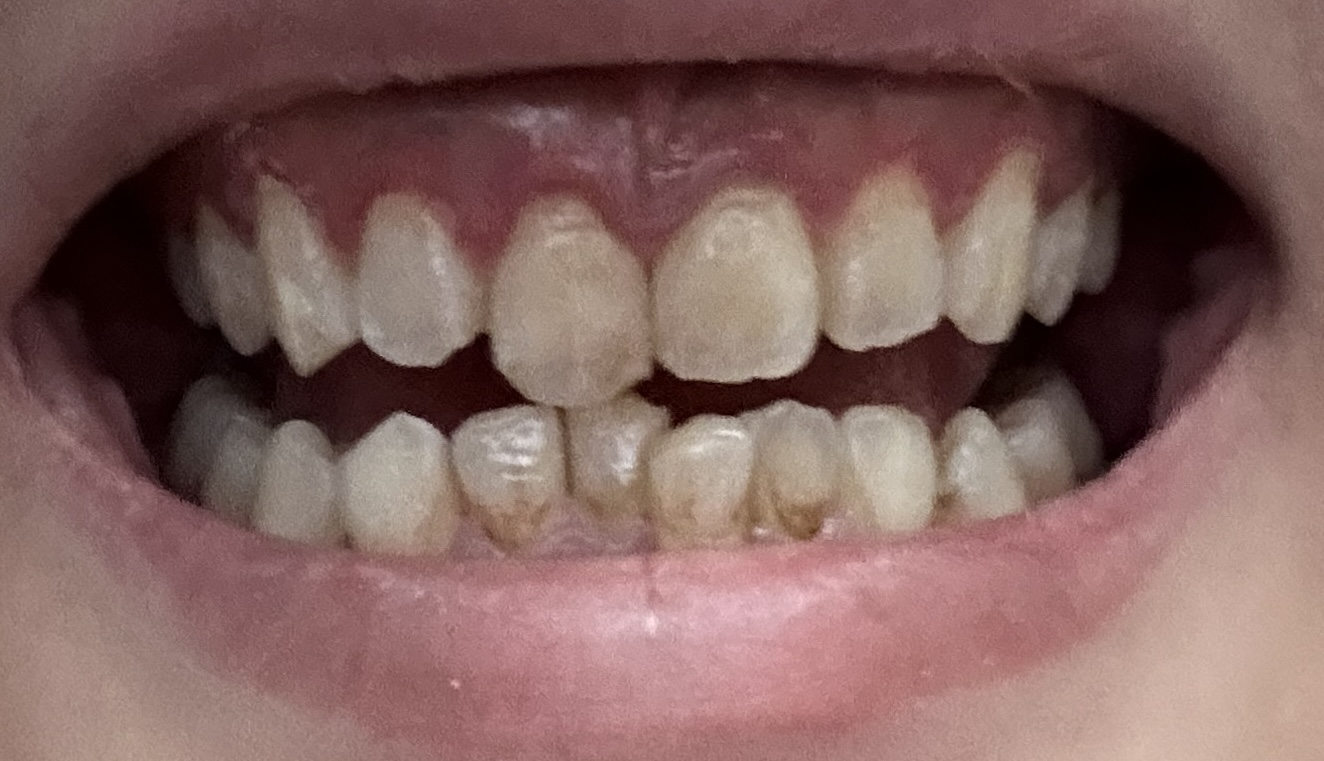teeth: (650, 178, 821, 376), (490, 203, 647, 401), (824, 163, 943, 347), (254, 176, 357, 373), (359, 197, 478, 364), (943, 151, 1040, 342), (335, 412, 457, 557), (448, 410, 564, 548), (644, 414, 751, 545), (572, 391, 666, 535), (755, 402, 852, 535), (158, 373, 266, 487), (840, 407, 935, 535), (251, 419, 342, 543), (200, 206, 270, 351), (938, 409, 1026, 516), (1023, 376, 1111, 473), (1032, 178, 1090, 321), (995, 399, 1074, 499), (205, 416, 265, 523), (168, 230, 210, 322), (1084, 187, 1115, 289)
